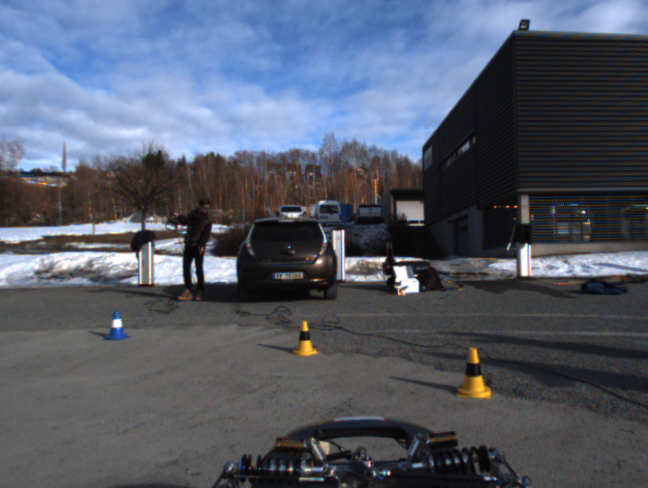cone-small-blue: (102, 311, 129, 340)
cone-small-yellow: (454, 346, 493, 400), (289, 321, 318, 356)
